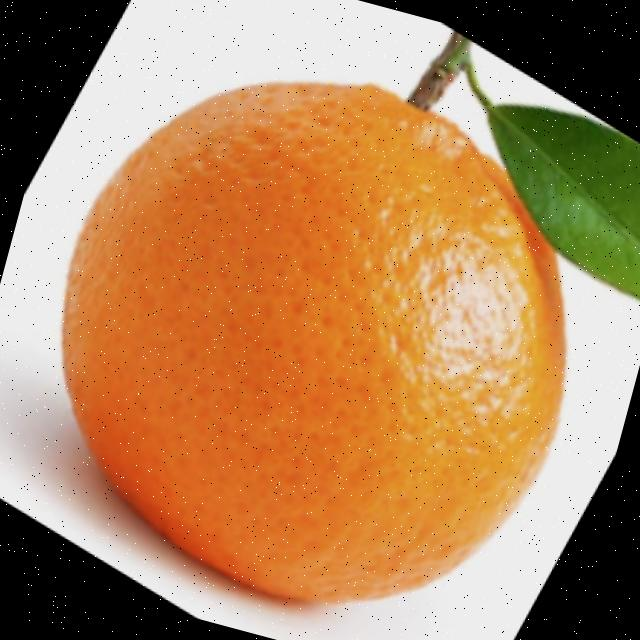orange: (0, 15, 634, 640)
